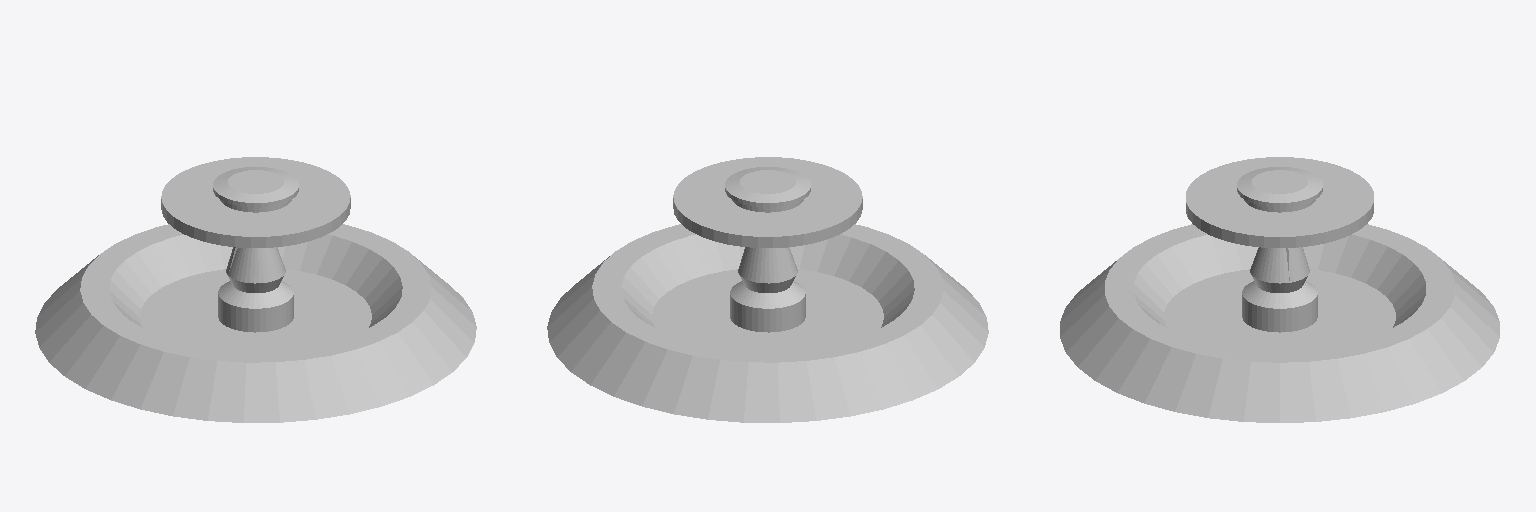
Rendered from Roulette Wheel.obj.
3 renders of one model, left to right at view 1: azimuth 30°, elevation 25°; view 2: azimuth 150°, elevation 25°; view 3: azimuth 270°, elevation 25°, orthographic.
Parts seen in each view (by area): view 1: Wheel Roulette, Roulette Center; view 2: Wheel Roulette, Roulette Center; view 3: Wheel Roulette, Roulette Center.
Boxes of the visible parts, x1,y1,x2,y2 form: Wheel Roulette: [35, 224, 476, 422]; Roulette Center: [161, 157, 350, 332]; Wheel Roulette: [547, 224, 988, 422]; Roulette Center: [673, 157, 862, 332]; Wheel Roulette: [1060, 224, 1499, 422]; Roulette Center: [1186, 157, 1373, 332].
Size of the model in its own units: 5.86 by 2.16 by 5.84.